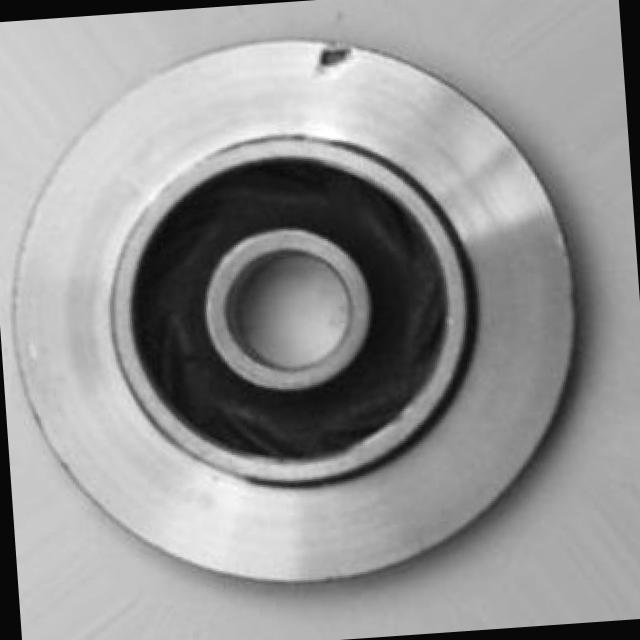Defect: (304, 30, 364, 81)
